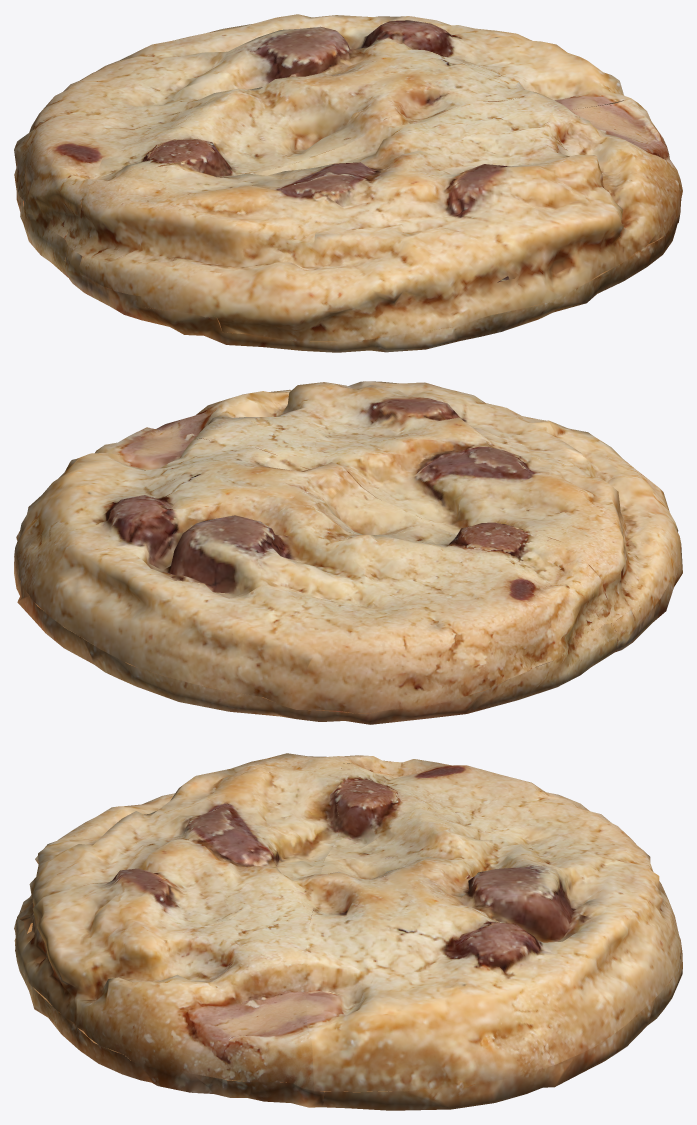
File: cookie-v1-transformed.glb
3 renders of one model, top to bottom at view 1: azimuth 30°, elevation 25°; view 2: azimuth 150°, elevation 25°; view 3: azimuth 270°, elevation 25°, orthographic. The views are drawn at different scales.
Parts seen in each view (by area): view 1: cookie; view 2: cookie; view 3: cookie.
Boxes of the visible parts, left/top/right/bottom form: cookie: left=14, top=14, right=682, bottom=352; cookie: left=14, top=381, right=682, bottom=724; cookie: left=14, top=753, right=682, bottom=1110.
Size of the model in its own units: 3.99 by 0.7761 by 3.98.
Materials: 1 (1 with a texture image).
